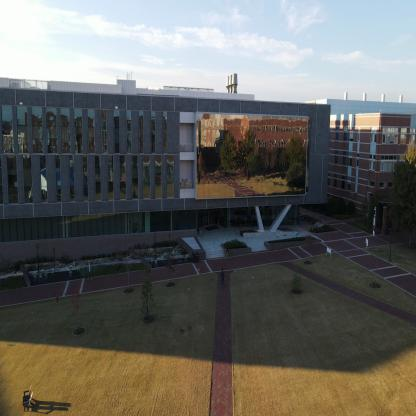EB-1: (339, 84, 415, 250)
Fitts- Woolard: (1, 60, 336, 294)
